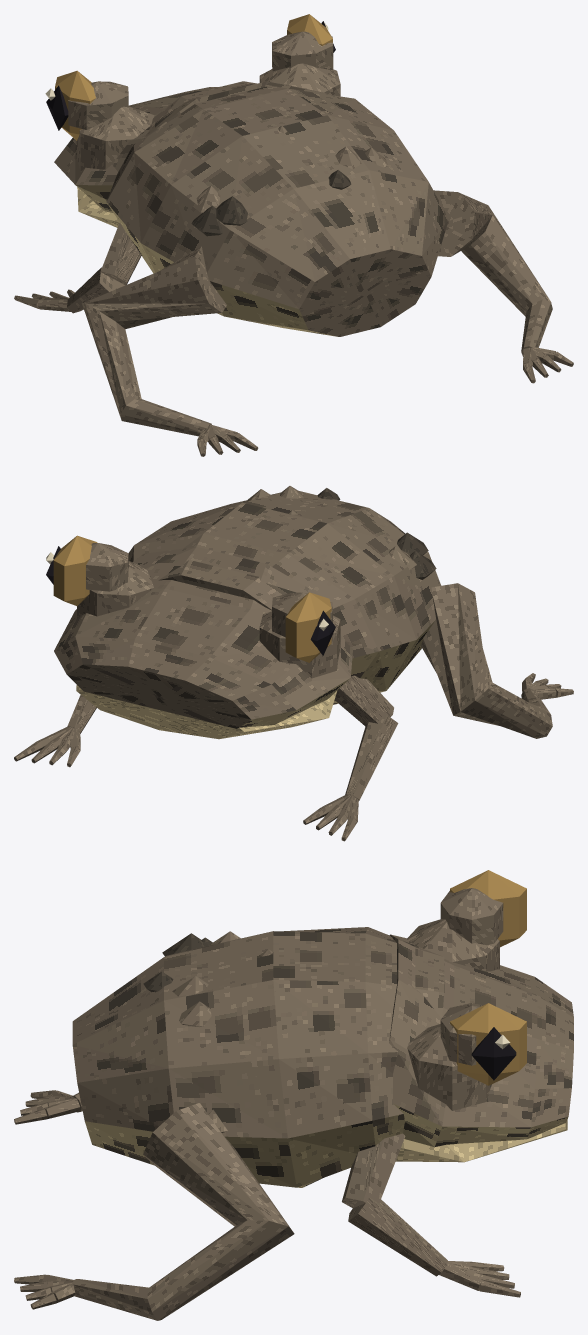
File: mon_odd_giganfrog.glb
3 views of the same model, one above another, from view 1: azimuth 30°, elevation 25°; view 2: azimuth 150°, elevation 25°; view 3: azimuth 270°, elevation 25° (orthographic). The views are drawn at different scales.
Parts seen in each view (by area): view 1: closed_body; view 2: closed_body; view 3: closed_body.
Part boxes in pixels (x1,y1,x2,y2): closed_body: [14, 14, 573, 456]; closed_body: [14, 486, 573, 841]; closed_body: [14, 870, 573, 1320].
Bounding box in the file's own units: 1.65 × 0.8311 × 1.58.
Materials: 1 (1 with a texture image).
